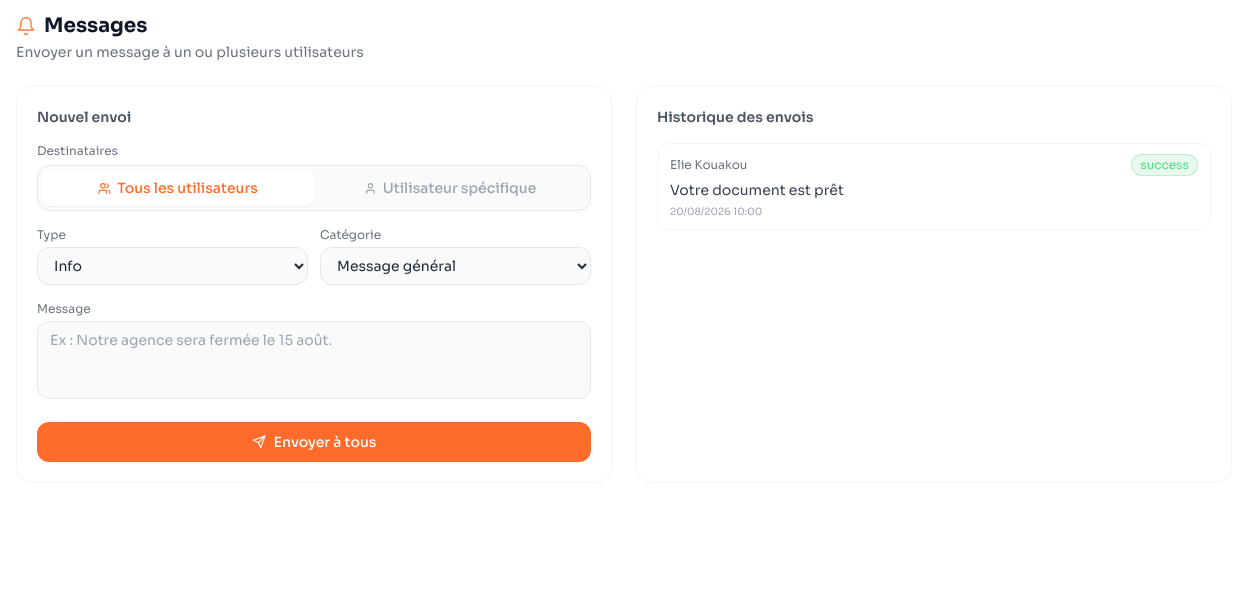
Test case: AdminMessagesPage › recherche un destinataire puis lui envoie une notification ciblée
This screenshot has width=1249, height=604.
Click the button "Utilisateur spécifique" at (450, 188), box 314,170 -> 586,206
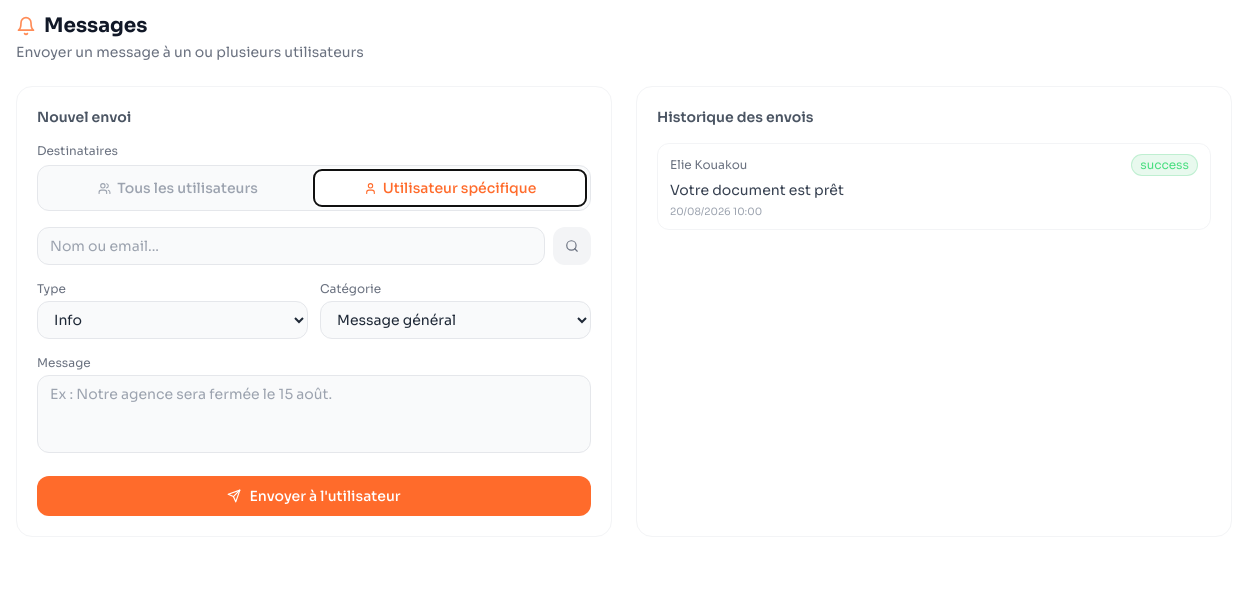
Type "Elie" into the field with placeholder "Nom ou email..." at (291, 246), box 37,227 -> 545,265
Then press Enter
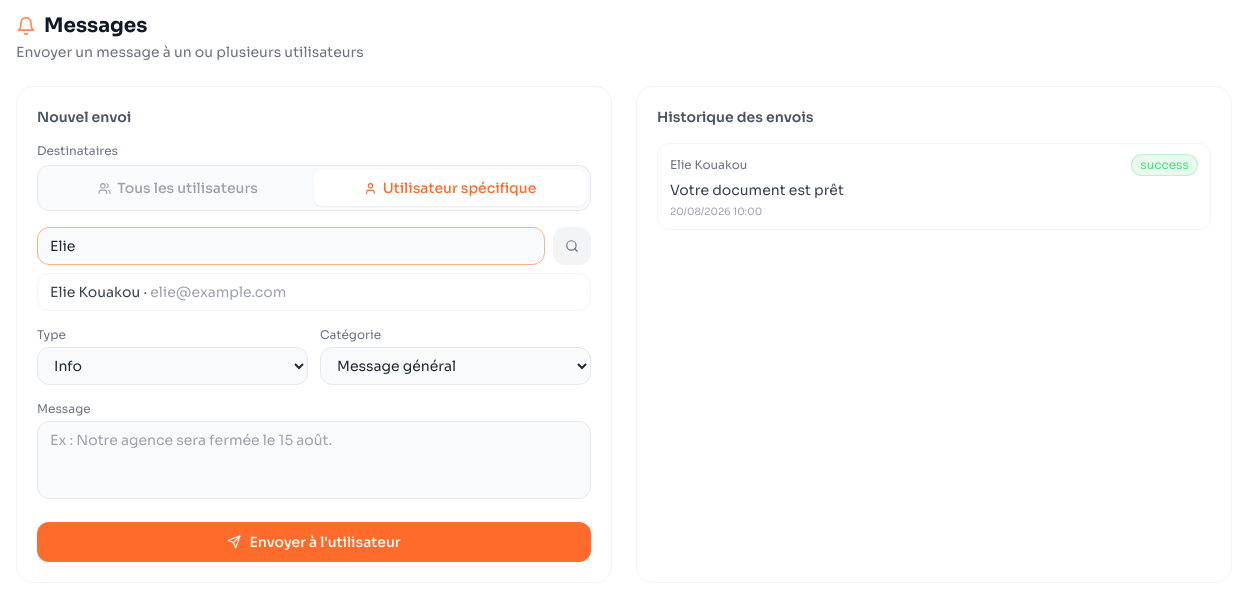
Click the button "Elie Kouakou · elie@example.com" at (95, 292), box 38,274 -> 590,310
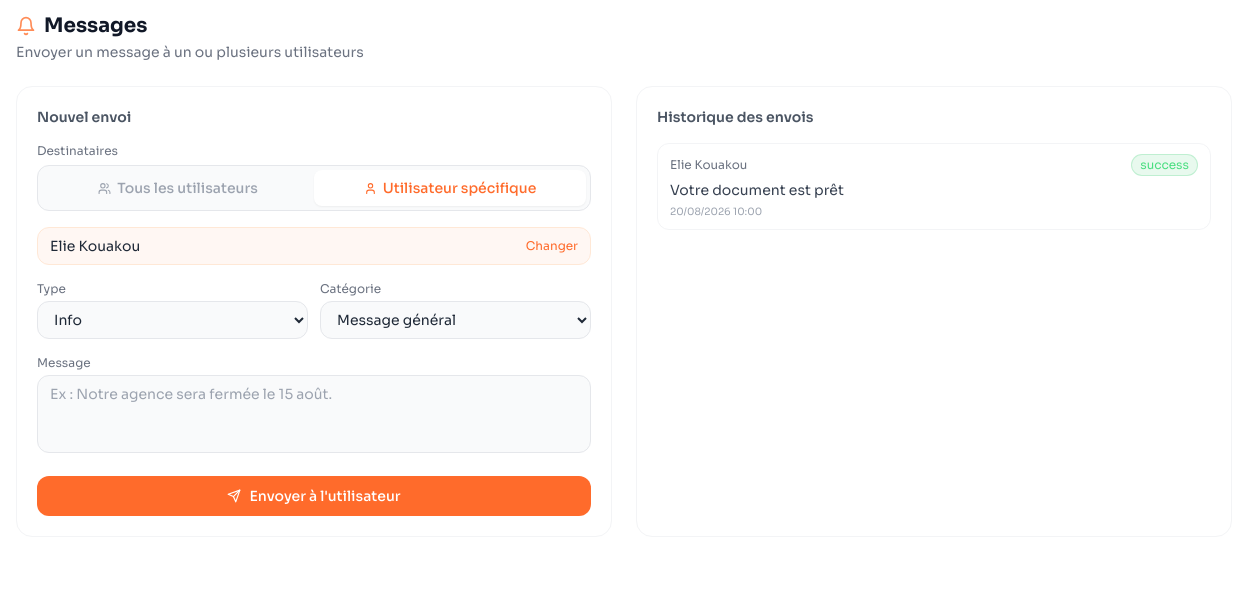
Type "Votre billet est disponible" into the text box with placeholder "Ex : Notre agence sera fermée le 15 août." at (314, 414), box 37,375 -> 591,453
Select "Succès" in the dropdown below "Type" at (172, 320), box 37,301 -> 308,339
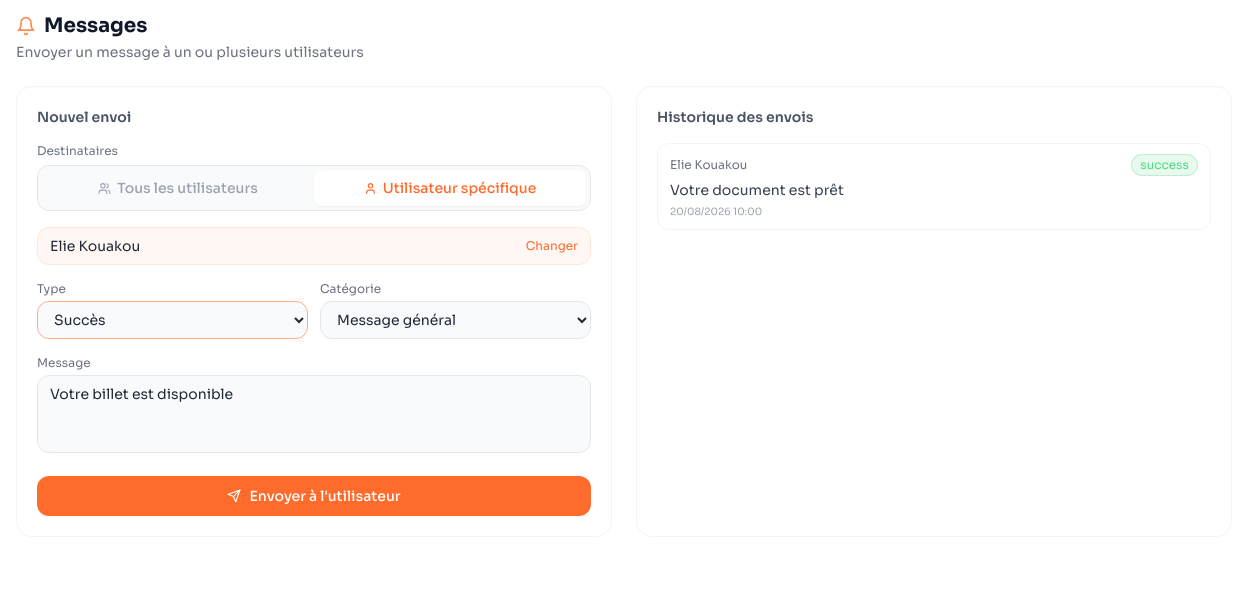
Select "Billet" in the dropdown below "Catégorie" at (456, 320), box 320,301 -> 591,339
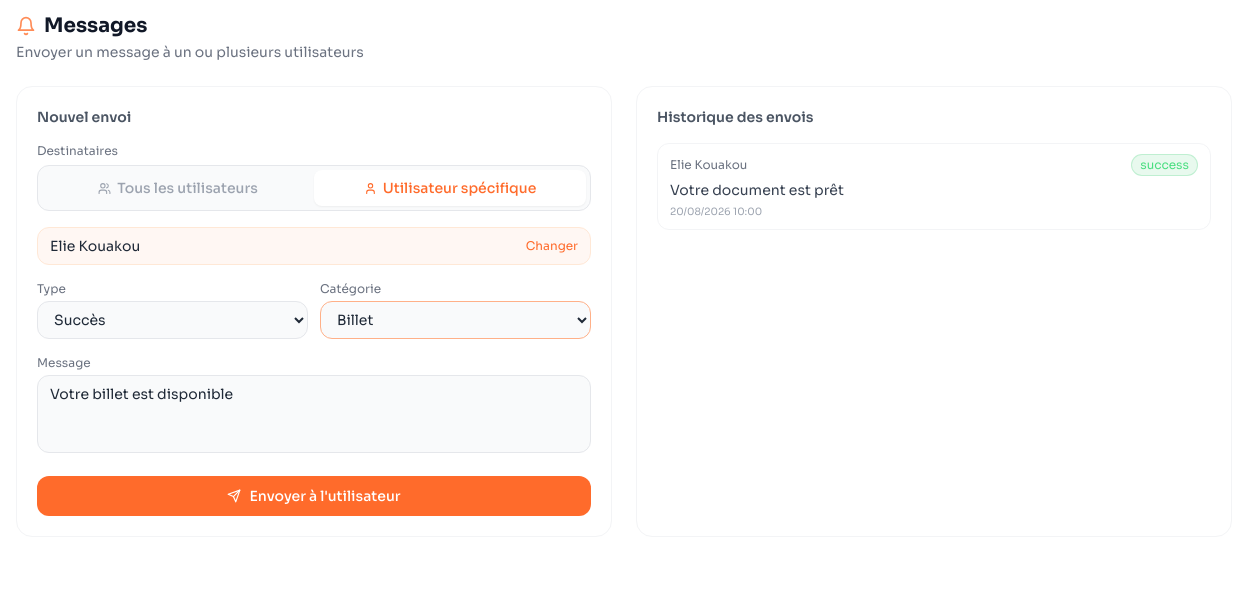
Click the button "Envoyer à l'utilisateur" at (314, 496), box 37,476 -> 591,516
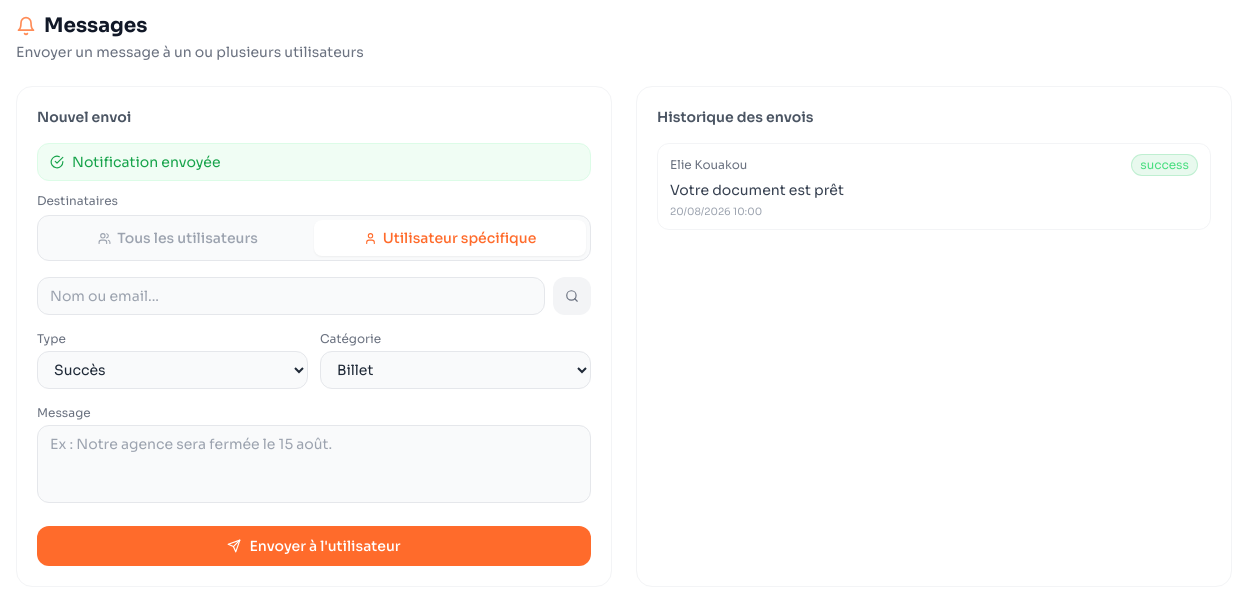
Check: the text "Notification envoyée" is shown, box 37,143 -> 591,181
